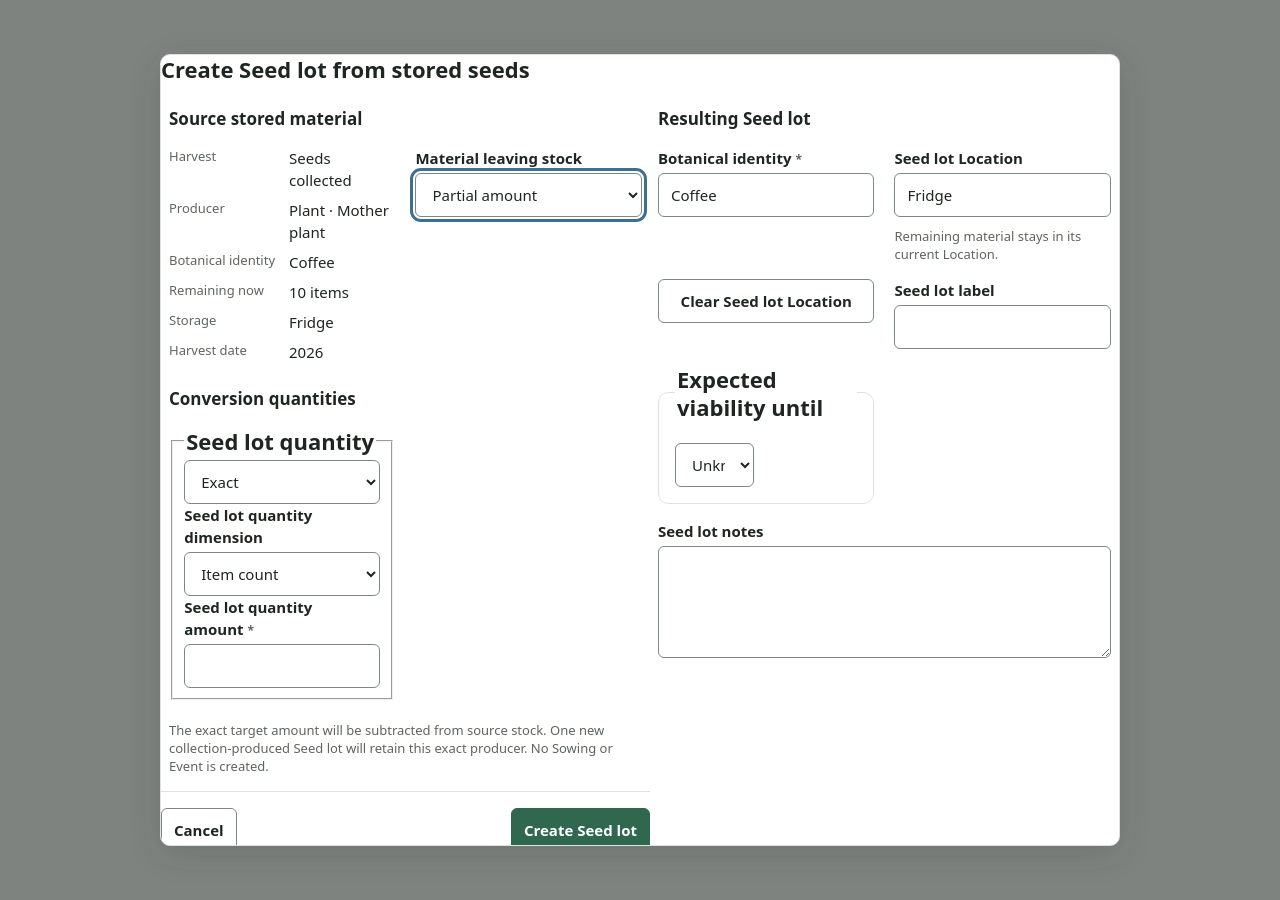
Test case: retains a conversion dialog on conflict and moves focus to the explanation
This screenshot has width=1280, height=900.
expect the dropdown labelled "Botanical identity" is shown: met, box [658, 173, 874, 217]
Type "3" into the field labelled "Seed lot quantity amount".
click(282, 666); type("3")  # box [184, 644, 380, 688]
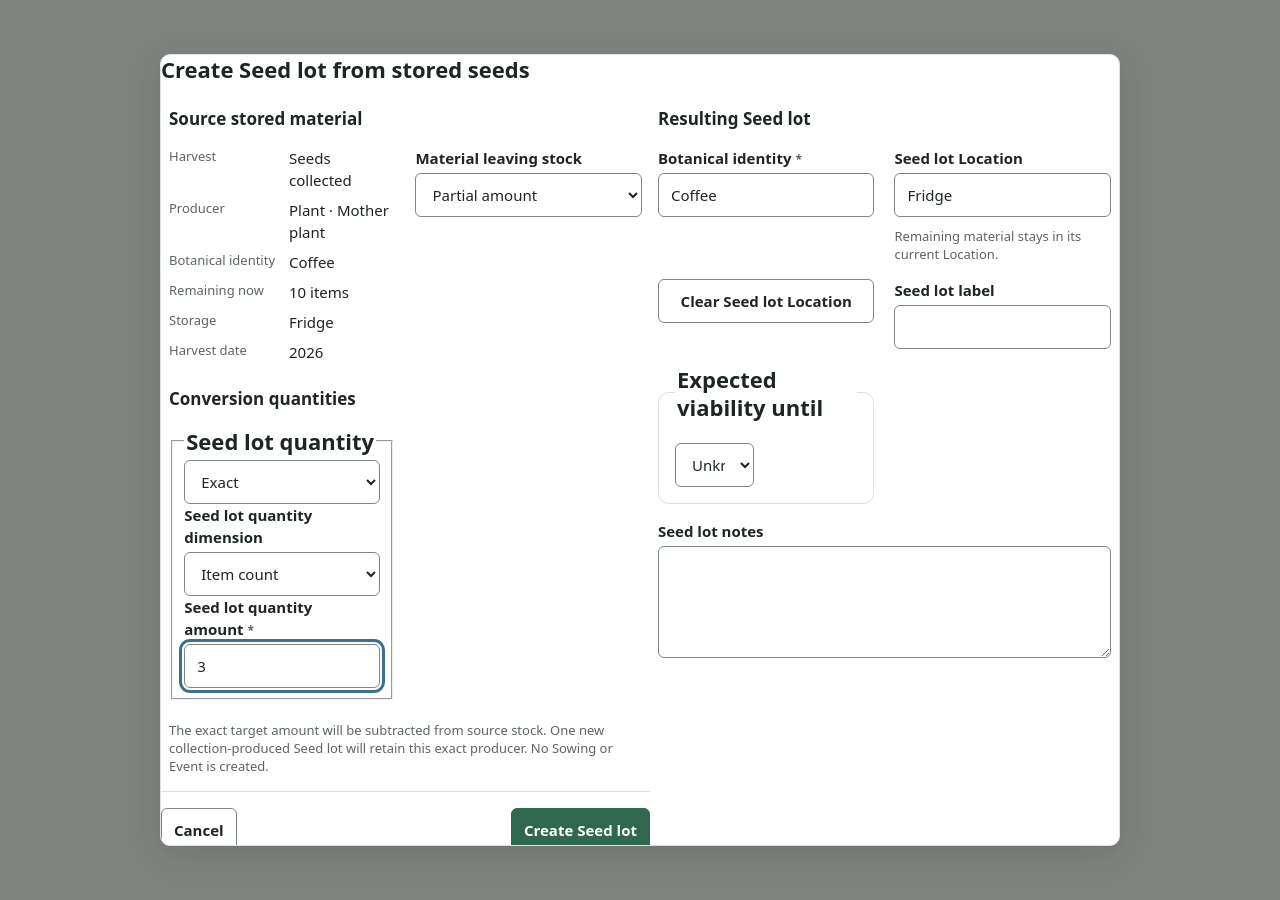
Click the button "Create Seed lot".
click(580, 830)  # box [511, 808, 650, 852]
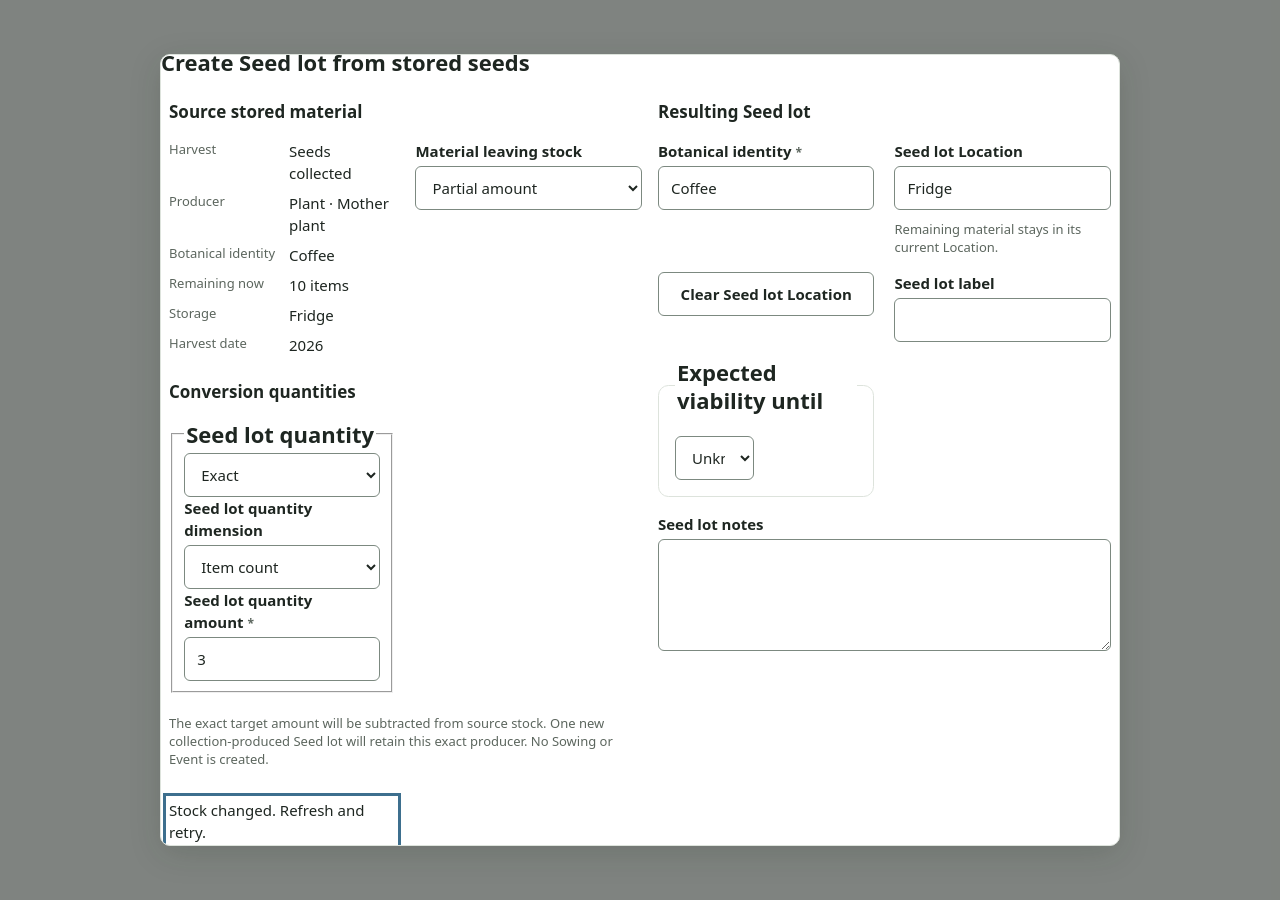
expect the message "Stock changed. Refresh and retry." is shown: met, box [169, 799, 396, 843]
